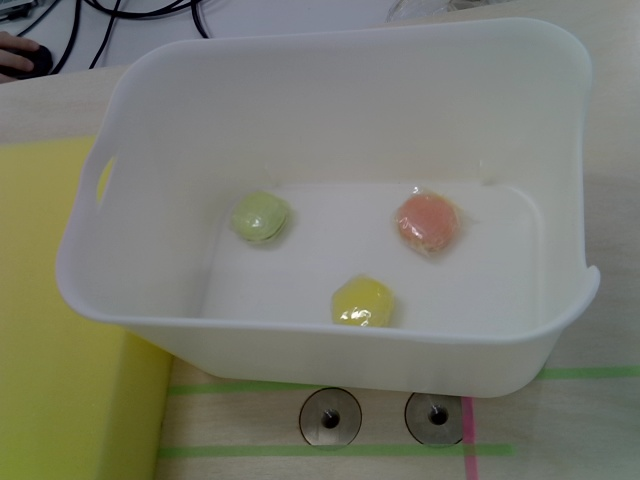씨앗: (396, 192, 465, 256), (229, 190, 295, 245), (332, 275, 400, 327)
